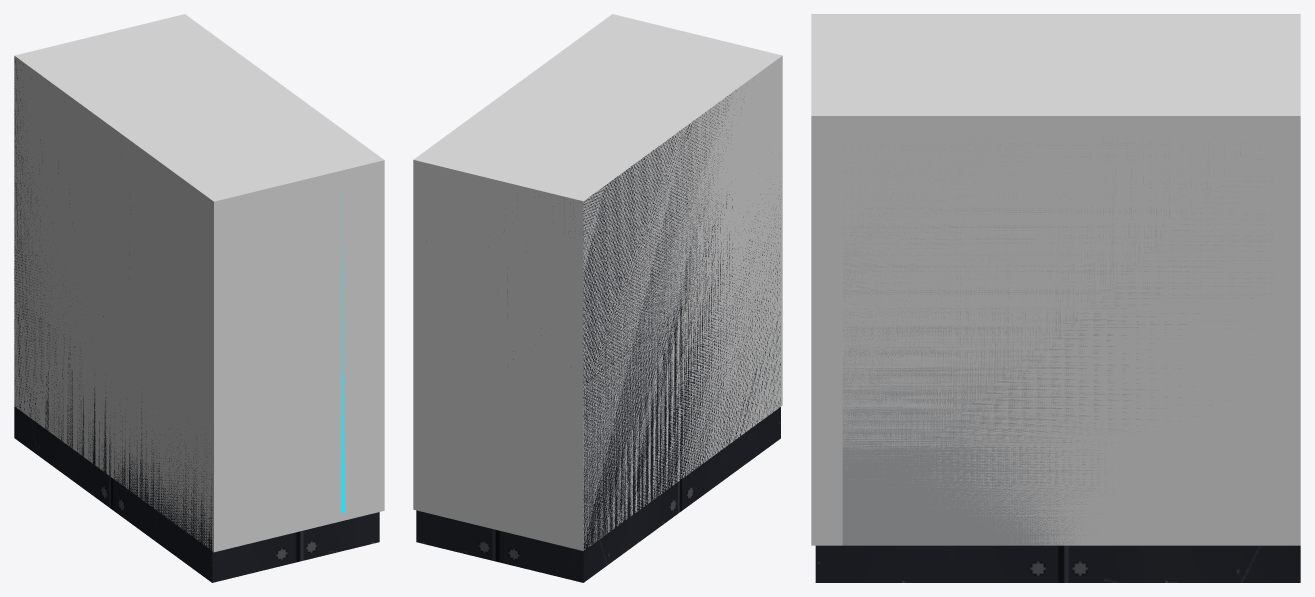
The model's file is Tech_PCTower.gltf.
3 renders of one model, left to right at view 1: azimuth 30°, elevation 25°; view 2: azimuth 150°, elevation 25°; view 3: azimuth 270°, elevation 25°, orthographic. The views are drawn at different scales.
Parts seen in each view (by area): view 1: Tech_PCTower_COL, Tech_PCTower; view 2: Tech_PCTower_COL, Tech_PCTower; view 3: Tech_PCTower_COL, Tech_PCTower.
Part boxes in pixels (left/top/right/bottom): Tech_PCTower_COL: left=14, top=14, right=384, bottom=552; Tech_PCTower: left=14, top=58, right=379, bottom=582; Tech_PCTower_COL: left=413, top=14, right=782, bottom=550; Tech_PCTower: left=416, top=90, right=780, bottom=582; Tech_PCTower_COL: left=811, top=14, right=1300, bottom=545; Tech_PCTower: left=815, top=346, right=1300, bottom=582.
Size of the model in its own units: 0.224 by 0.48 by 0.454.
Materials: 4 (2 with a texture image).
